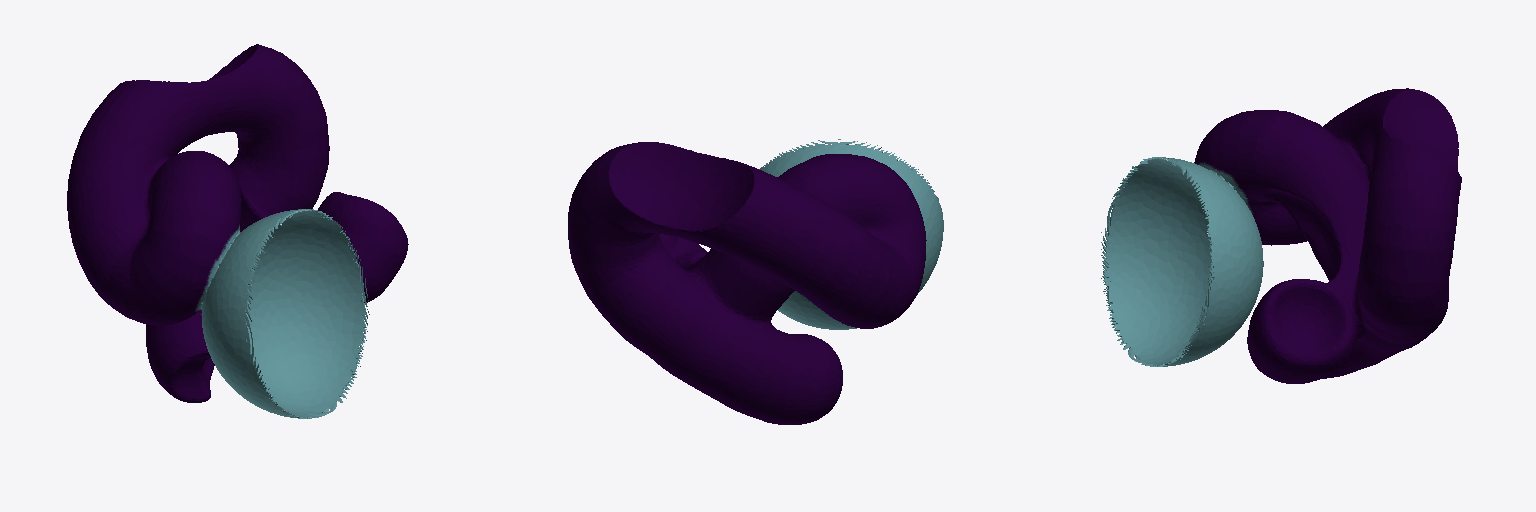
The picture shows the model from 3 angles: view 1: azimuth 30°, elevation 25°; view 2: azimuth 150°, elevation 25°; view 3: azimuth 270°, elevation 25°; orthographic projection.
Visible parts, largest first — view 1: Layer_1; view 2: Layer_1; view 3: Layer_1.
Part boxes in pixels (x1,y1,x2,y2): Layer_1: (67, 44, 408, 418); Layer_1: (568, 139, 943, 424); Layer_1: (1101, 88, 1461, 383).
Bounding box in the file's own units: 144 × 131 × 150.
1 materials, 1 textured.